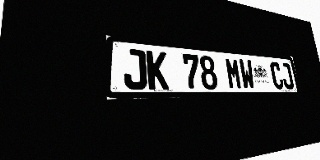7: (181, 53, 202, 89)
8: (199, 55, 218, 89)
C: (269, 61, 285, 89)
J: (123, 48, 147, 90), (280, 62, 294, 89)
K: (146, 50, 169, 90)
M: (225, 57, 243, 89)
W: (238, 59, 256, 89)
